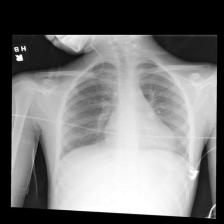normal: (56, 55, 196, 172)
